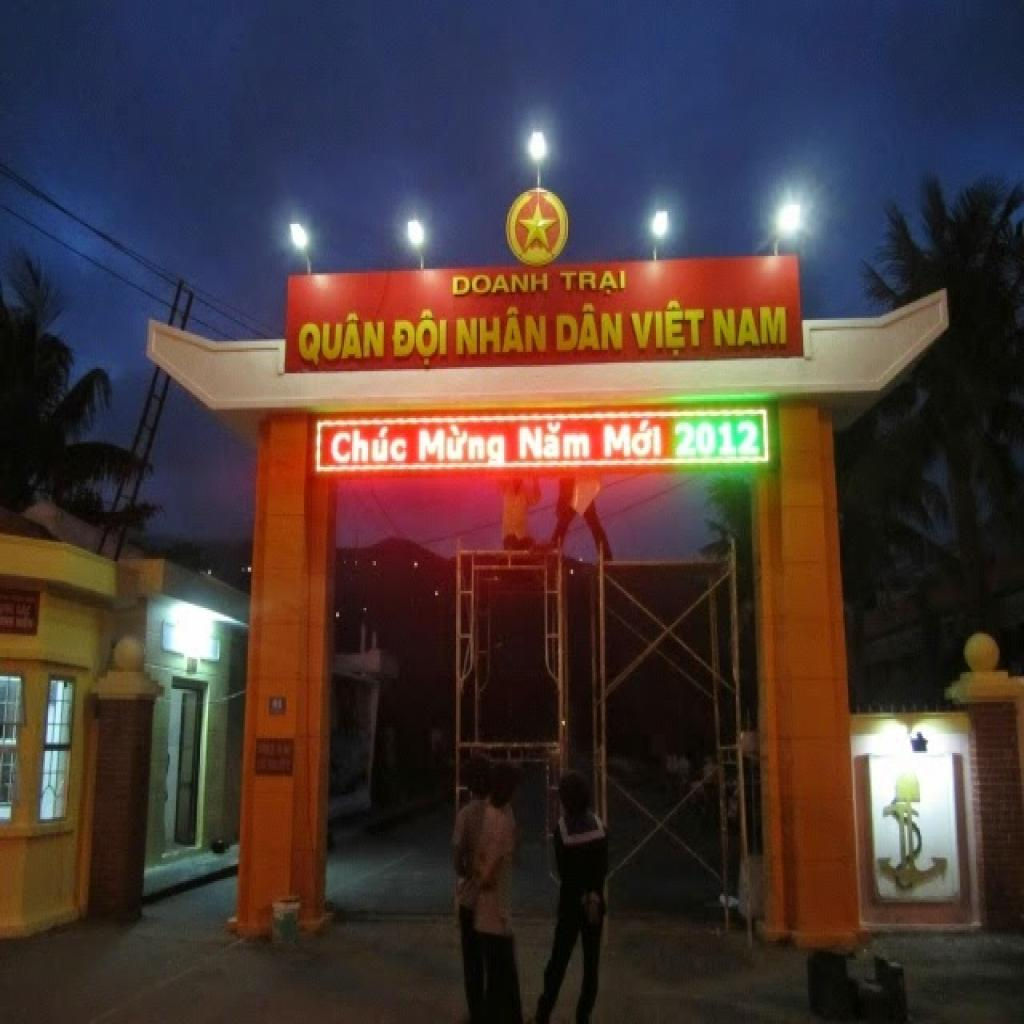text: (454, 305, 549, 358), (298, 311, 386, 367), (627, 301, 707, 358), (418, 424, 507, 470), (555, 303, 626, 356), (388, 309, 450, 367), (675, 420, 760, 459), (712, 307, 789, 350), (331, 425, 408, 465), (518, 422, 592, 463), (450, 268, 550, 298), (603, 420, 664, 459), (558, 266, 628, 298)
